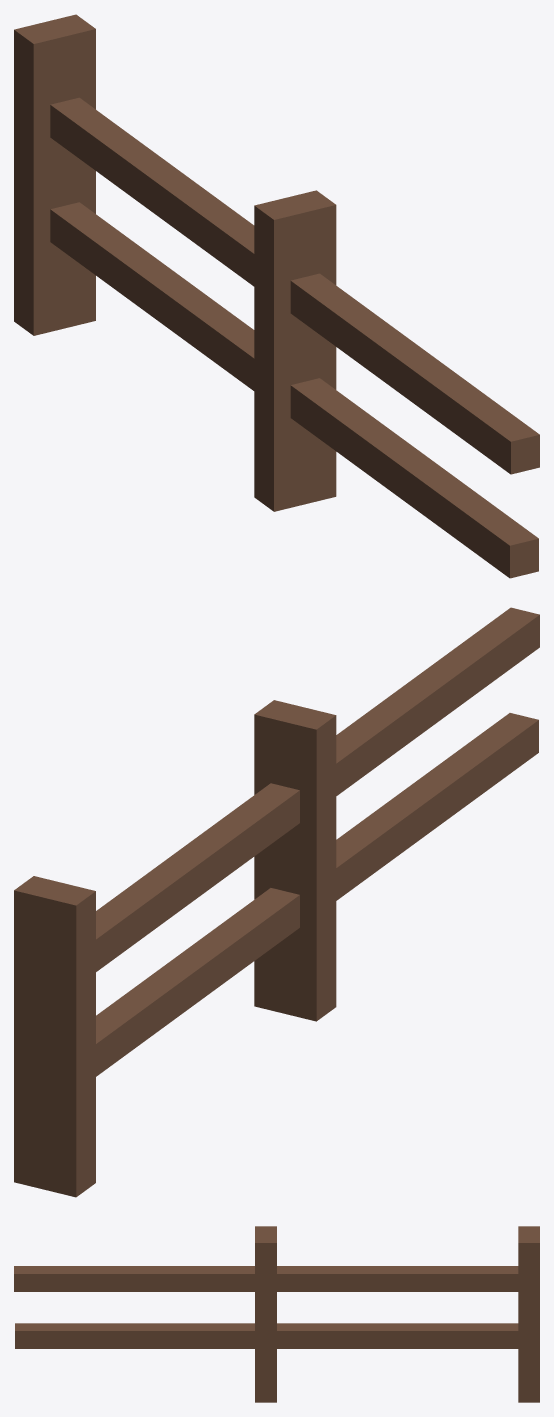
Rendered from Cerca.fbx.
3 renders of one model, top to bottom at view 1: azimuth 30°, elevation 25°; view 2: azimuth 150°, elevation 25°; view 3: azimuth 270°, elevation 25°, orthographic. The views are drawn at different scales.
Visible parts, largest first — view 1: Cube, Cube.003, Cube.004, Cube.005, Cube.001, Cube.002; view 2: Cube.003, Cube, Cube.001, Cube.004, Cube.002, Cube.005; view 3: Cube.001, Cube.002, Cube.004, Cube.005, Cube, Cube.003.
Part boxes in pixels (x1,y1,x2,y2): Cube: (254,190,336,511); Cube.003: (14,14,95,335); Cube.004: (290,273,539,474); Cube.005: (290,378,538,578); Cube.001: (50,97,254,286); Cube.002: (50,202,254,390); Cube.003: (14,876,95,1197); Cube: (254,700,336,1021); Cube.001: (96,783,299,971); Cube.004: (336,607,539,795); Cube.002: (96,888,299,1076); Cube.005: (336,713,538,900); Cube.001: (277,1266,518,1291); Cube.002: (277,1323,518,1348); Cube.004: (14,1266,254,1291); Cube.005: (15,1323,254,1348); Cube: (255,1226,276,1402); Cube.003: (518,1226,539,1402).
Size of the model in its own units: 156 by 701 by 2091.
